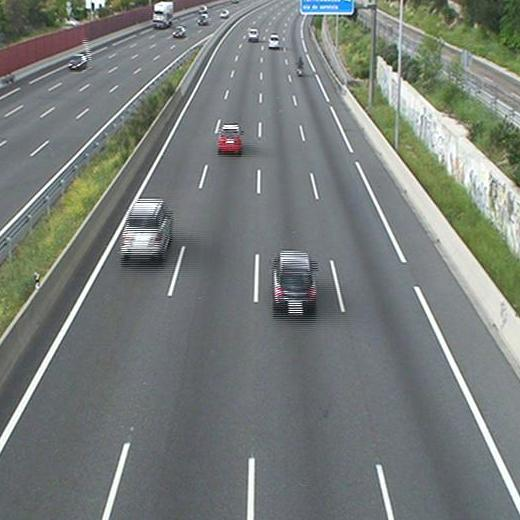car: (121, 200, 171, 256), (273, 253, 315, 309), (217, 126, 242, 150), (268, 35, 280, 48), (248, 29, 259, 40)
motorcycle: (295, 55, 305, 79)
